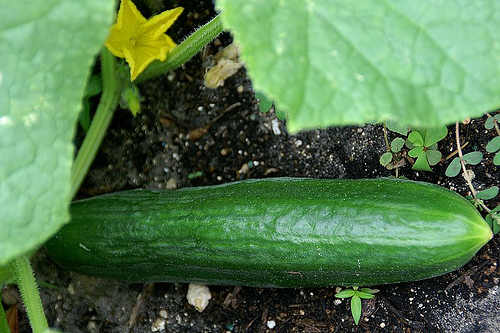cucumber: (46, 176, 493, 292)
